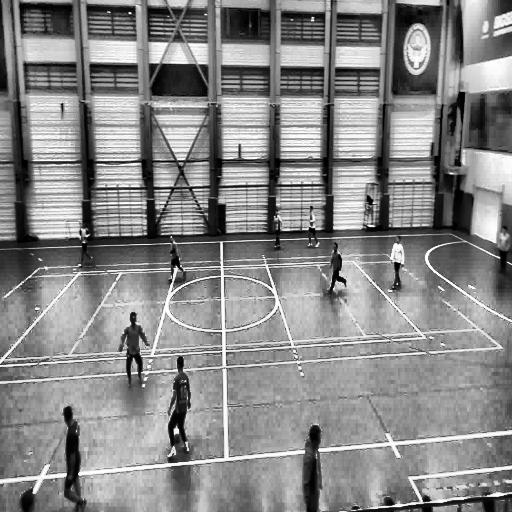ball: (173, 430, 181, 444)
player: (167, 357, 191, 455), (120, 311, 150, 389), (63, 406, 85, 509), (302, 423, 323, 512), (326, 242, 346, 294), (168, 236, 186, 282), (390, 237, 403, 290), (497, 224, 510, 273), (78, 223, 92, 264), (307, 206, 318, 246), (272, 208, 280, 249)
